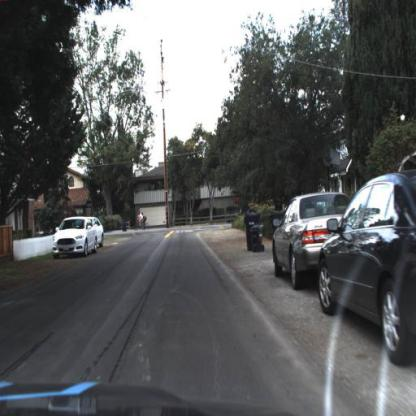biker: (135, 213, 151, 231), (136, 211, 144, 233), (143, 211, 148, 230)
car: (318, 173, 416, 371), (273, 194, 347, 289), (51, 218, 98, 258), (93, 217, 106, 248), (97, 217, 105, 252)
